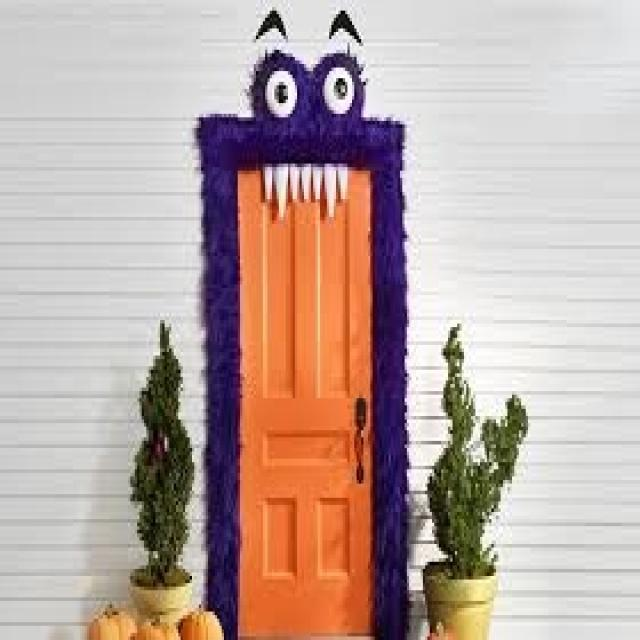door: (235, 162, 378, 638)
